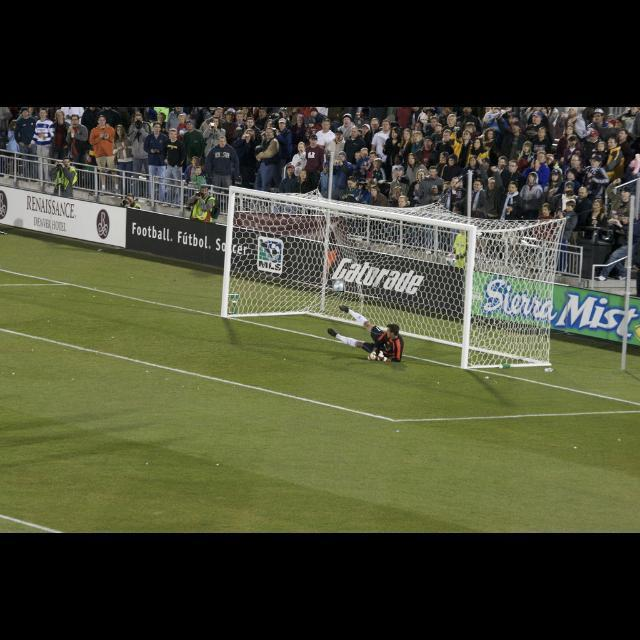ball: (330, 277, 347, 297)
goalkeeper: (325, 303, 412, 372)
